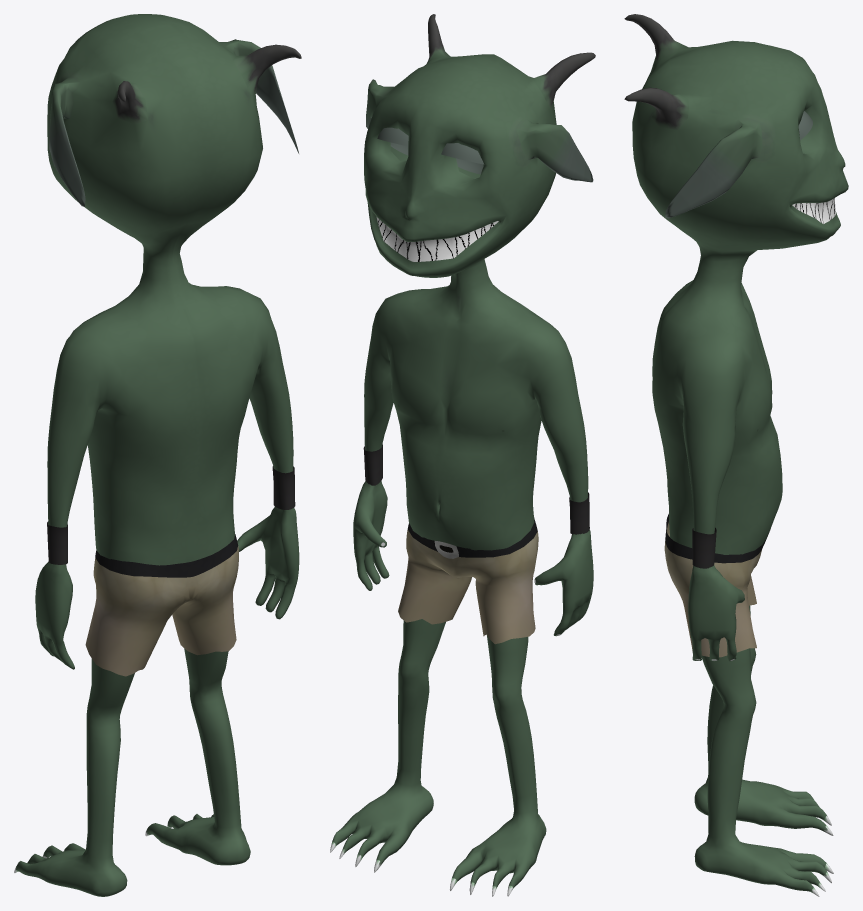
Rendered from lwjglcharactergoblin16.obj.
The picture shows the model from 3 angles, left to right: view 1: azimuth 30°, elevation 25°; view 2: azimuth 150°, elevation 25°; view 3: azimuth 270°, elevation 25°; orthographic projection. The views are drawn at different scales.
Visible parts, largest first — view 1: Cube.002; view 2: Cube.002; view 3: Cube.002.
Part boxes in pixels (<box>): Cube.002: <box>14,14,301,896</box>; Cube.002: <box>330,14,595,896</box>; Cube.002: <box>624,14,848,896</box>.
Bounding box in the file's own units: 1.17 × 3.85 × 0.9736.
